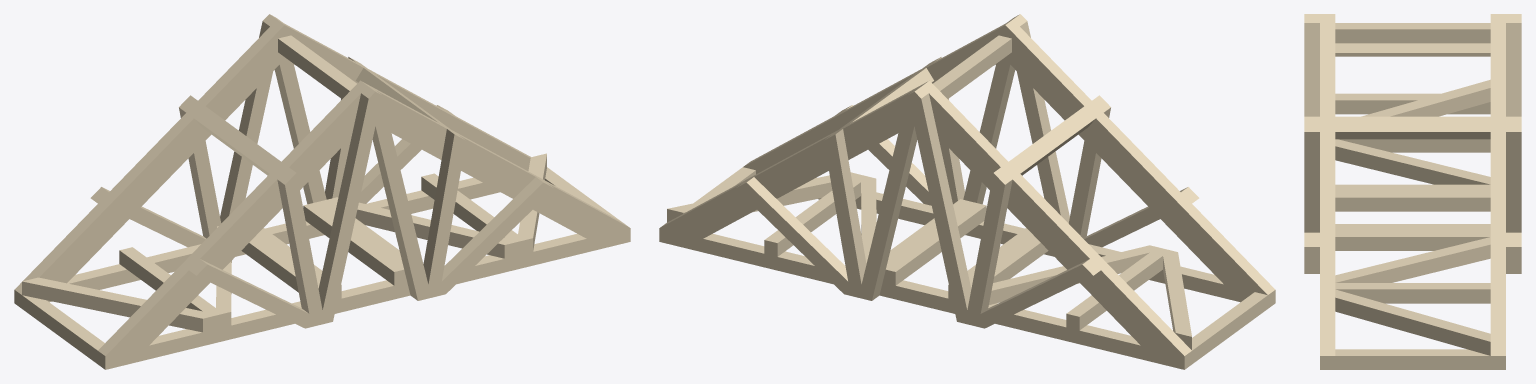
3 renders of one model, left to right at view 1: azimuth 30°, elevation 25°; view 2: azimuth 150°, elevation 25°; view 3: azimuth 270°, elevation 25°, orthographic. The views are drawn at different scales.
Parts seen in each view (by area): view 1: 3; view 2: 3; view 3: 3.
Part boxes in pixels (box(x1,y1,x2,y2)): 3: box(14, 14, 630, 369); 3: box(659, 14, 1275, 369); 3: box(1304, 14, 1521, 369).
Bounding box in the file's own units: 40 × 16 × 14.
